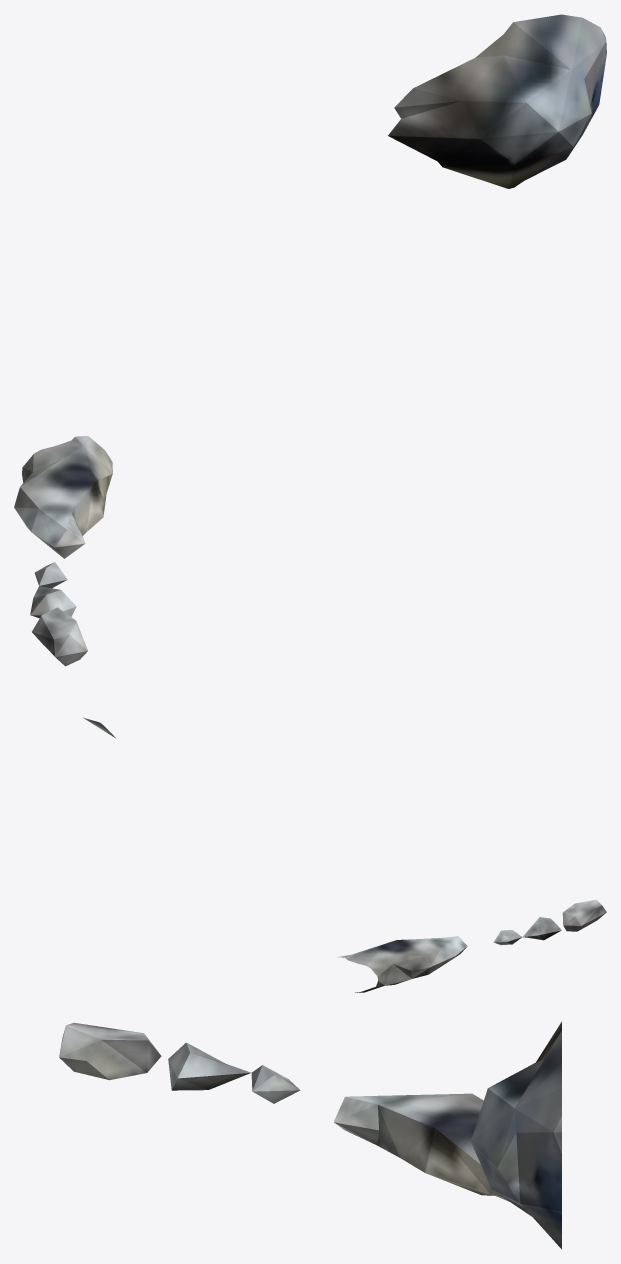
3 renders of one model, top to bottom at view 1: azimuth 30°, elevation 25°; view 2: azimuth 150°, elevation 25°; view 3: azimuth 270°, elevation 25°, orthographic. The views are drawn at different scales.
Bounding box in the file's own units: 1.04 × 0.4781 × 0.4845.
1 material, 1 textured.
